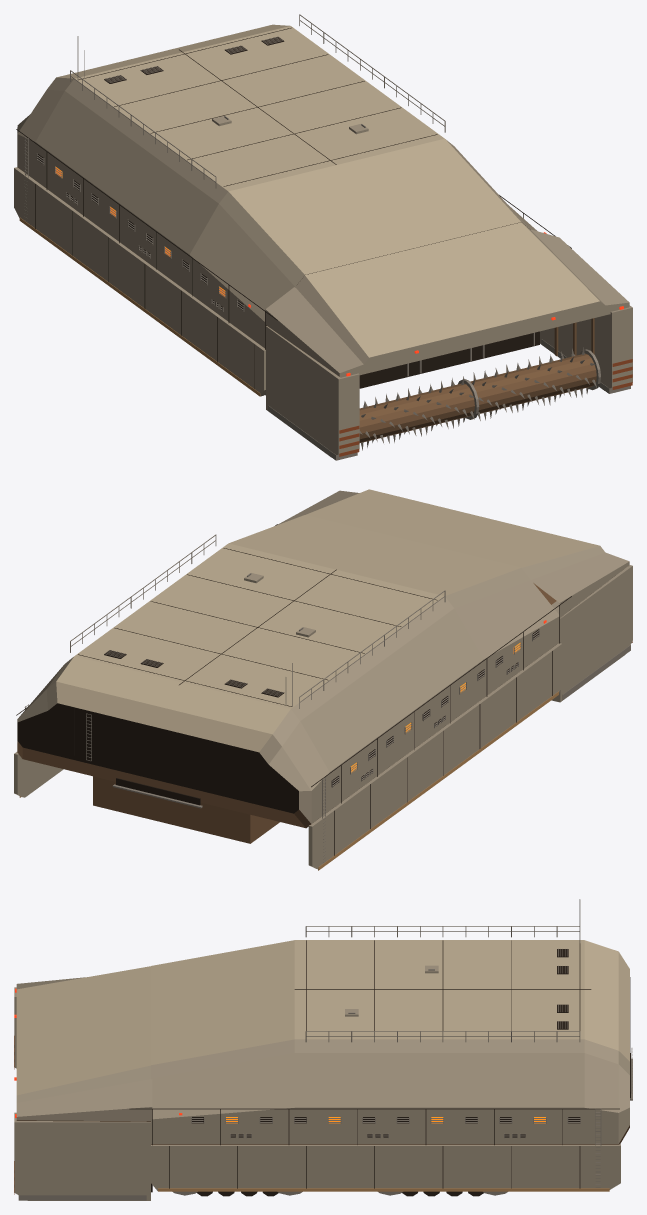
File: harvester.glb
3 renders of one model, top to bottom at view 1: azimuth 30°, elevation 25°; view 2: azimuth 150°, elevation 25°; view 3: azimuth 270°, elevation 25°, orthographic. The views are drawn at different scales.
Parts seen in each view (by area): view 1: Harvester_Hull, Harvester_Drum; view 2: Harvester_Hull; view 3: Harvester_Hull.
Part boxes in pixels (left/top/right/bottom): Harvester_Hull: left=14, top=14, right=632, bottom=460; Harvester_Drum: left=359, top=347, right=600, bottom=450; Harvester_Hull: left=14, top=489, right=632, bottom=870; Harvester_Hull: left=14, top=899, right=632, bottom=1200.
Bounding box in the file's own units: 28.46 × 18.94 × 54.27.
